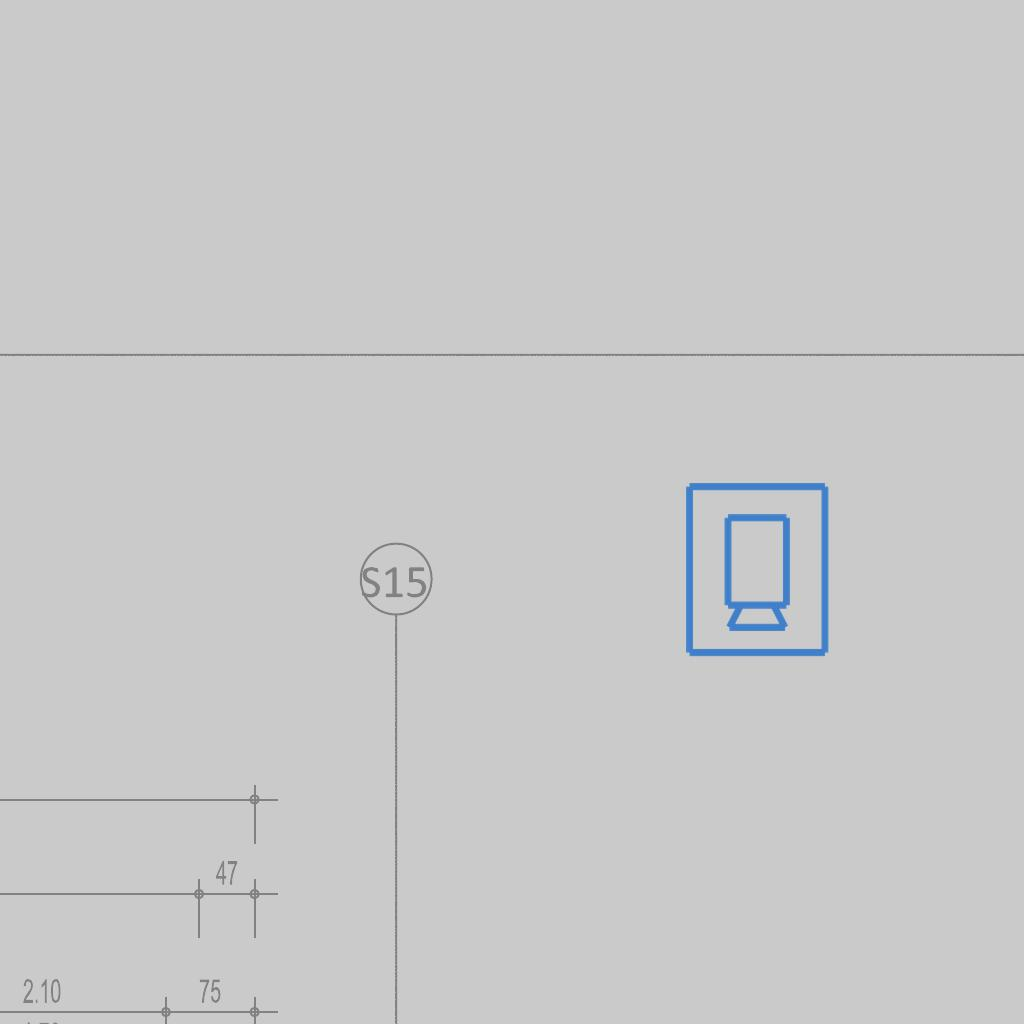KFO_Kamera_mit_Festobjektiv: (679, 478, 833, 660)
